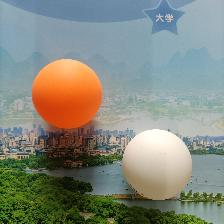WhiteBall: (120, 128, 192, 200)
YellowBall: (30, 58, 102, 128)
